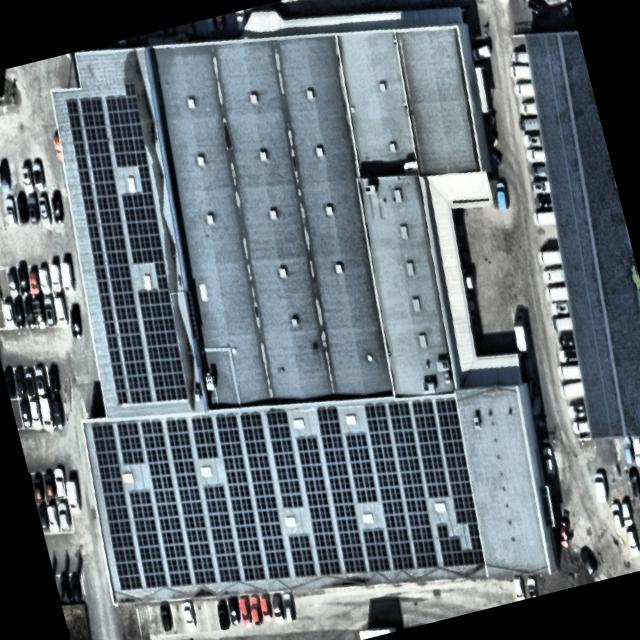roof_pv: (78, 418, 154, 596), (82, 255, 142, 408), (128, 282, 198, 408), (106, 298, 164, 411), (218, 472, 274, 588), (170, 477, 224, 591), (120, 484, 174, 596), (404, 395, 458, 505), (96, 76, 156, 174), (198, 478, 250, 590), (258, 402, 310, 512), (147, 486, 196, 592), (84, 160, 134, 260), (300, 492, 347, 582), (117, 190, 167, 265), (339, 426, 384, 508), (74, 90, 118, 172), (376, 493, 419, 575), (235, 406, 277, 486), (134, 413, 178, 487), (160, 413, 203, 488), (248, 476, 290, 552), (439, 451, 480, 528), (292, 432, 334, 506), (102, 243, 144, 316), (210, 408, 252, 480), (310, 400, 352, 472), (365, 436, 408, 506), (434, 514, 485, 573), (323, 460, 363, 535), (402, 500, 442, 570), (384, 396, 422, 460), (392, 449, 430, 511), (78, 200, 111, 270), (59, 90, 91, 162), (432, 396, 468, 460), (186, 408, 223, 467), (334, 521, 369, 580), (361, 397, 396, 452), (284, 530, 318, 582), (70, 156, 100, 213), (360, 526, 394, 574), (114, 418, 145, 464), (262, 542, 294, 584), (134, 162, 157, 200), (150, 254, 171, 292)
